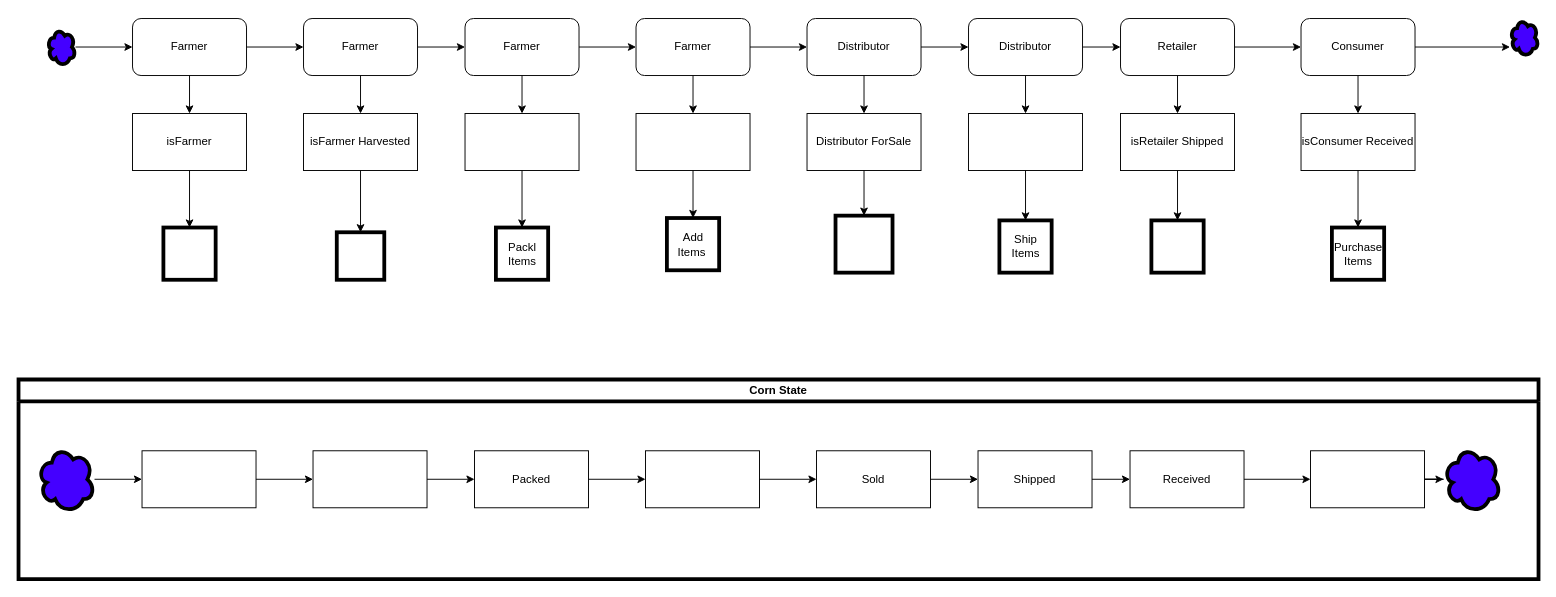
Some shapes in this 1556 by 597 pixel diagram are drawn without their labels. Each missing label, with the centre of its shape:
"Buy Items" goes at point (863, 243).
"Farmer Sold" goes at point (1025, 142).
"ForSale" goes at point (702, 479).
"Harvest Items" goes at point (189, 253).
"Harvested" goes at point (198, 479).
"isFarmer Packed" goes at point (692, 142).
"isFarmer Processed" goes at point (521, 142).
"Process Items" goes at point (360, 255).
"Processed" goes at point (369, 479).
"Purchased" goes at point (1367, 479).
"Receive İtems" goes at point (1177, 246).
